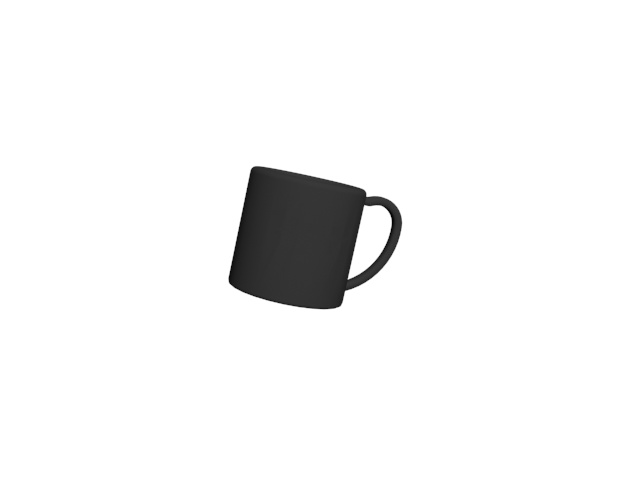mug: (225, 161, 408, 312)
